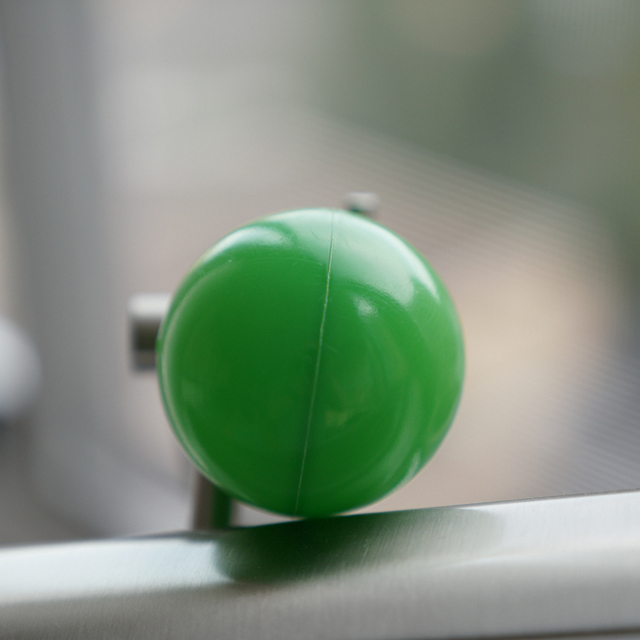Ball: (158, 207, 463, 518)
